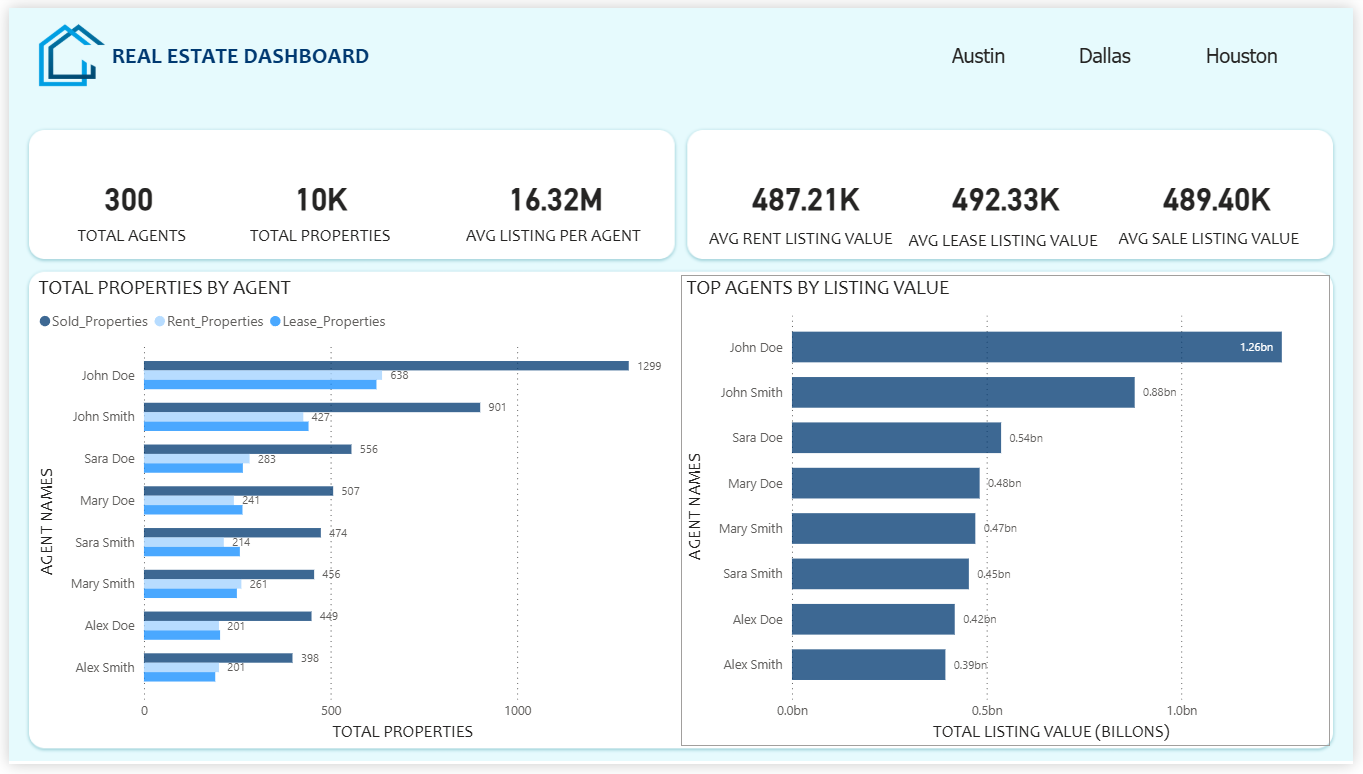

Layout of this report page (visuals, bound fields, positions):
{"tool":"powerbi","page":{"name":"AGENT PERFORMANCE [PART 1]","canvas":[1280,720],"ordinal":7},"visuals":[{"type":"clusteredBarChart","title":"TOTAL PROPERTIES BY AGENT","fields":{"Category":["Agents.FullName"],"Y":["Measure_Table.Sold_Properties","Measure_Table.Rent_Properties","Measure_Table.Lease_Properties"]},"box":[23.5,253.9,616.3,449],"z":0},{"type":"card","title":"AVG . LISTED PRIZE","fields":{"Values":["Measure_Table.Total_Agents"]},"box":[23.5,121.8,182,117.4],"z":1000},{"type":"card","title":"AVG . LISTED PRIZE","fields":{"Values":["Measure_Table.Total_Properties"]},"box":[205.4,121.8,182,117.4],"z":2000},{"type":"card","title":"AVG . LISTED PRIZE","fields":{"Values":["Measure_Table.Avg_Sale_Value"]},"box":[1052.1,121.8,196.6,117.4],"z":3000},{"type":"card","title":"AVG . LISTED PRIZE","fields":{"Values":["Measure_Table.Avg_Rent_Value"]},"box":[661.8,121.8,193.7,117.4],"z":4000},{"type":"card","title":"AVG . LISTED PRIZE","fields":{"Values":["Measure_Table.Avg_Transaction_Value_Per_Agent"]},"box":[409.4,121.8,220.1,117.4],"z":5000},{"type":"clusteredBarChart","title":"TOP AGENTS BY LISTING VALUE","fields":{"Category":["Agents.FullName"],"Y":["Measure_Table.Total_Listing_Value"]},"box":[639.8,253.9,619.3,449],"z":6000},{"type":"card","title":"AVG . LISTED PRIZE","fields":{"Values":["Measure_Table.Avg_Lease_Value"]},"box":[859.9,121.8,177.6,117.4],"z":7000},{"type":"advancedSlicerVisual","fields":{"Values":["Properties.City"]},"box":[880,10,370,70],"z":8000},{"type":"image","box":[25,10,68.3,70],"z":9000},{"type":"textbox","box":[59.8,201.6,120.6,36.5],"z":10000},{"type":"textbox","box":[224.9,201.6,149.2,36.5],"z":11000},{"type":"textbox","box":[429.6,201.6,179.4,36.5],"z":12000},{"type":"textbox","box":[661.9,203.7,198.4,30.2],"z":13000},{"type":"textbox","box":[850.8,205.3,198.4,30.2],"z":14000},{"type":"textbox","box":[1050.8,203.7,198.4,30.2],"z":15000},{"type":"textbox","box":[92.2,26.6,281.2,39.1],"z":16000}]}

Visuals, with their boxes in screenshot pixels (x1, y1, x2, y2), scaled from the page's 1280x720 canvas onto the 1363x774 screenshot:
"TOTAL PROPERTIES BY AGENT" clusteredBarChart: x1=25 y1=273 x2=681 y2=756
"AVG . LISTED PRIZE" card: x1=25 y1=131 x2=219 y2=257
"AVG . LISTED PRIZE" card: x1=219 y1=131 x2=413 y2=257
"AVG . LISTED PRIZE" card: x1=1120 y1=131 x2=1330 y2=257
"AVG . LISTED PRIZE" card: x1=705 y1=131 x2=911 y2=257
"AVG . LISTED PRIZE" card: x1=436 y1=131 x2=670 y2=257
"TOP AGENTS BY LISTING VALUE" clusteredBarChart: x1=681 y1=273 x2=1341 y2=756
"AVG . LISTED PRIZE" card: x1=916 y1=131 x2=1105 y2=257
advancedSlicerVisual - Properties.City: x1=937 y1=11 x2=1331 y2=86
image: x1=27 y1=11 x2=99 y2=86
textbox: x1=64 y1=217 x2=192 y2=256
textbox: x1=239 y1=217 x2=398 y2=256
textbox: x1=457 y1=217 x2=648 y2=256
textbox: x1=705 y1=219 x2=916 y2=251
textbox: x1=906 y1=221 x2=1117 y2=253
textbox: x1=1119 y1=219 x2=1330 y2=251
textbox: x1=98 y1=29 x2=398 y2=71
